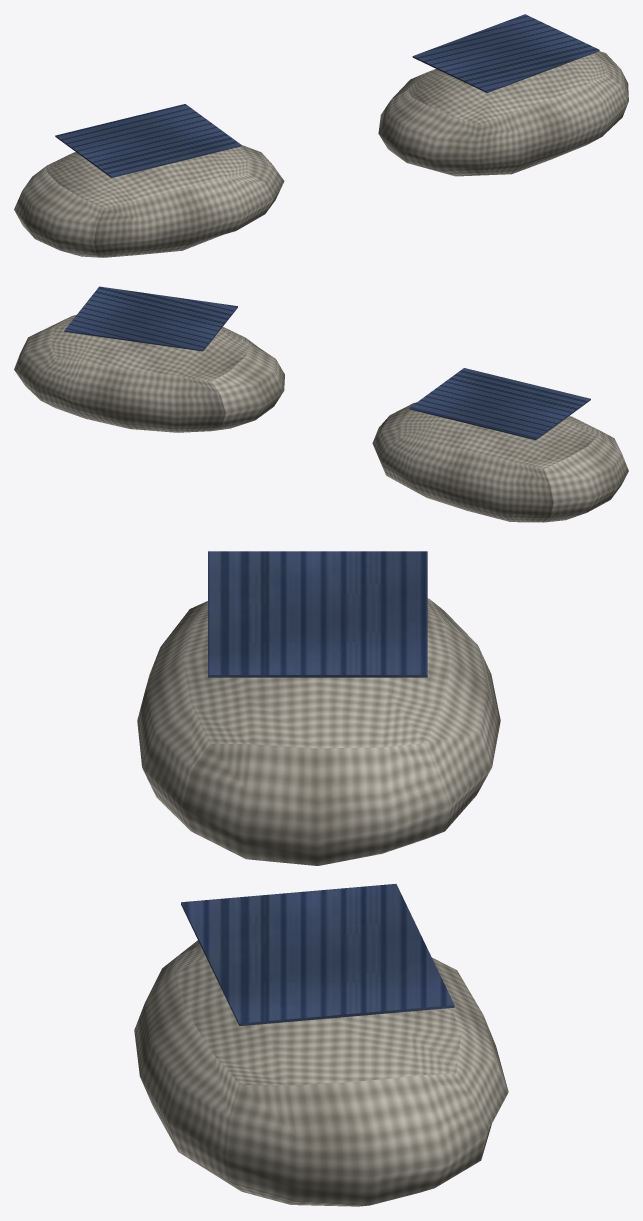
The model's file is FD20_SugarSacks.glb.
The picture shows the model from 3 angles, top to bottom: view 1: azimuth 30°, elevation 25°; view 2: azimuth 150°, elevation 25°; view 3: azimuth 270°, elevation 25°; orthographic projection. The views are drawn at different scales.
Parts seen in each view (by area): view 1: FD20_SugarSacks; view 2: FD20_SugarSacks; view 3: FD20_SugarSacks.
Boxes of the visible parts, x1=… form: FD20_SugarSacks: x1=14, y1=14, x2=628, y2=257; FD20_SugarSacks: x1=14, y1=286, x2=628, y2=522; FD20_SugarSacks: x1=134, y1=551, x2=508, y2=1206.
Size of the model in its own units: 0.5 by 0.0787 by 0.1386.
2 materials, 2 textured.
